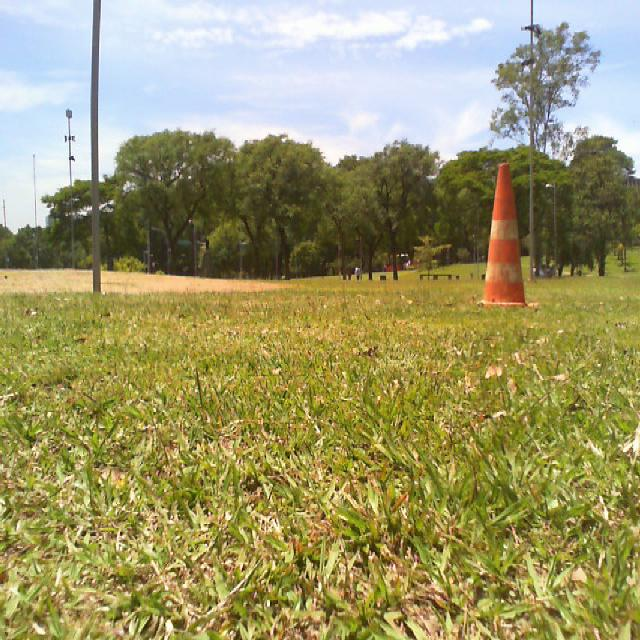cone: (478, 164, 538, 308)
